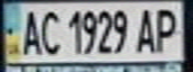1: (63, 6, 81, 54)
2: (96, 6, 115, 55)
9: (78, 6, 100, 55), (112, 6, 133, 54)
A: (15, 6, 45, 56), (133, 4, 160, 54)
C: (36, 6, 63, 56)
P: (151, 4, 184, 54)
